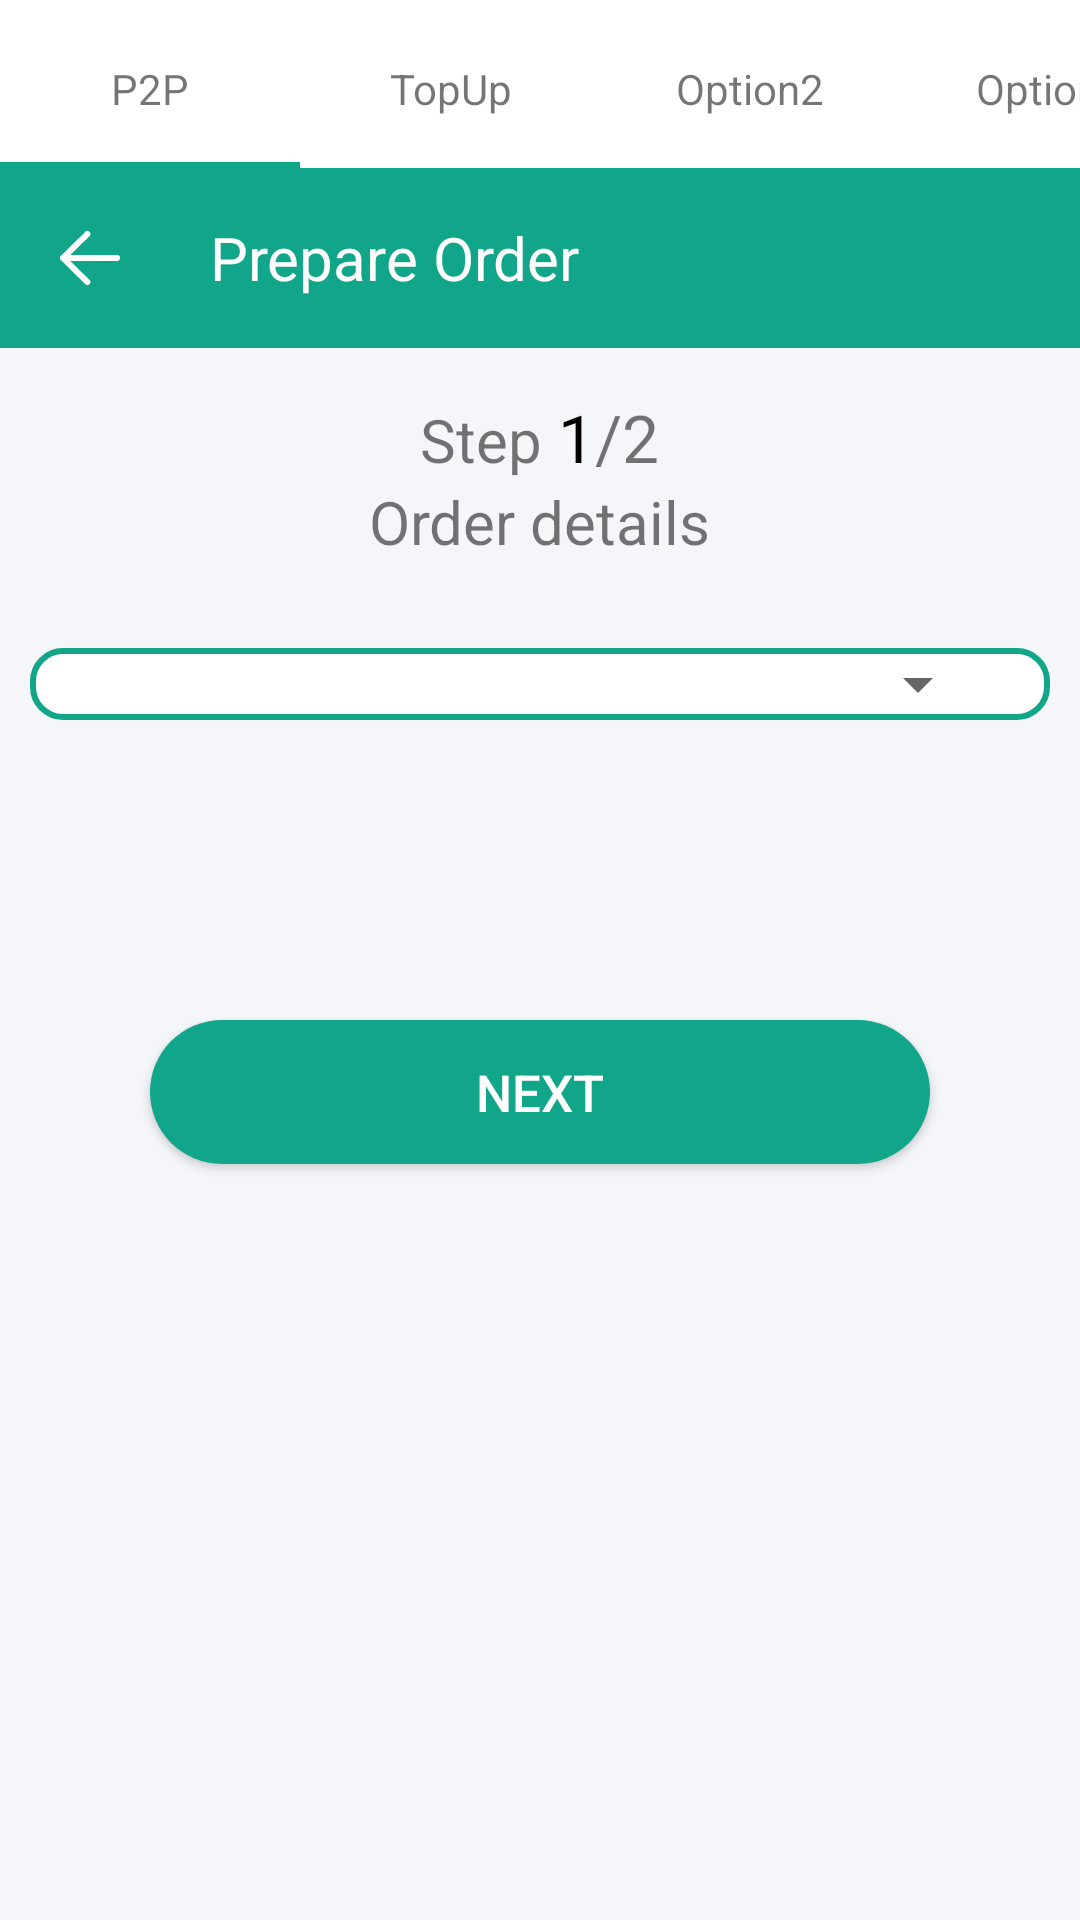

Point at icon controls on the screen. Image size 1080 × 1920, points as [x,y].
back: [90,257]
